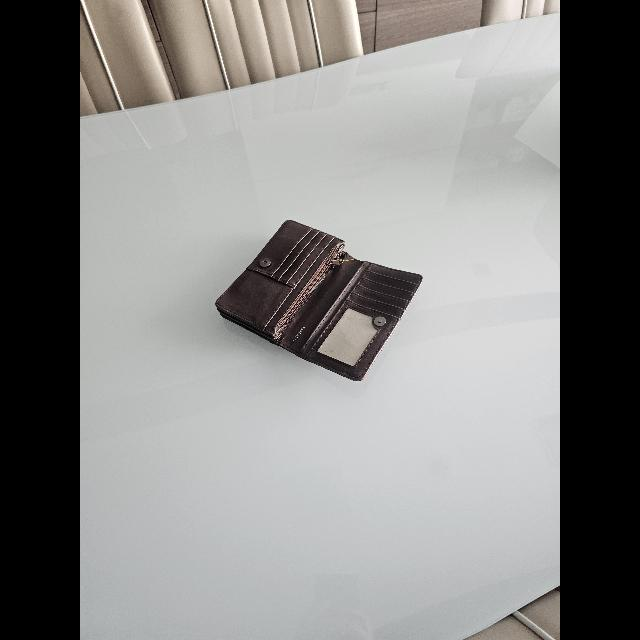Wallet: (215, 220, 422, 380)
